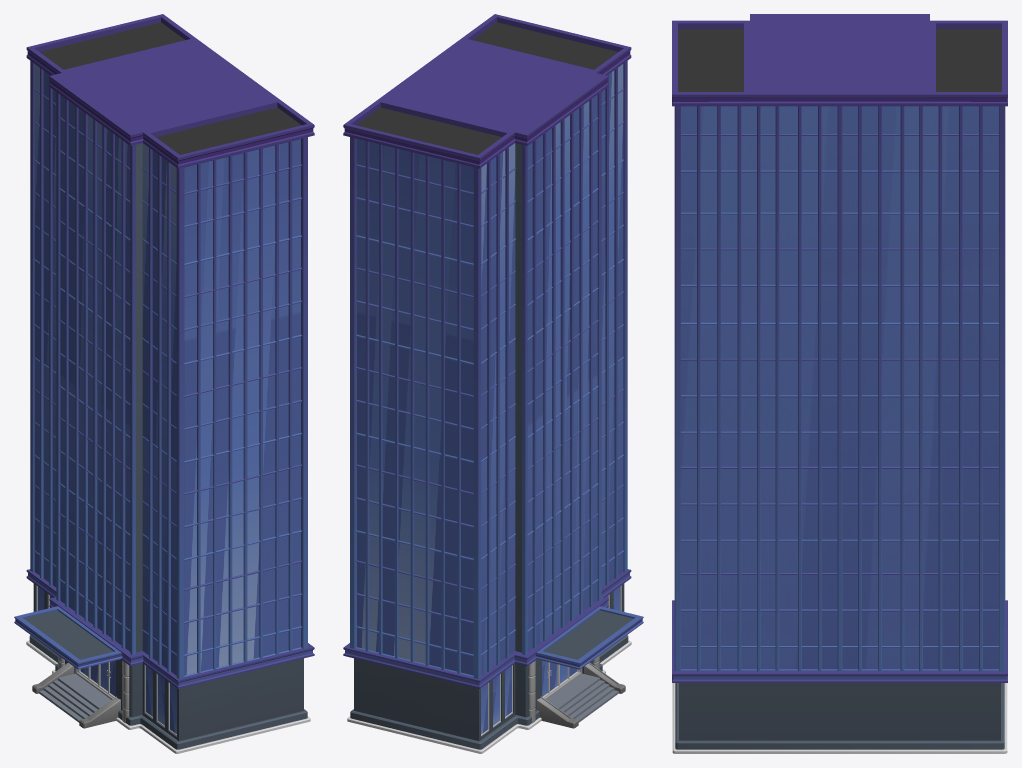
The model's file is Building_17_3_K.fbx.
The picture shows the model from 3 angles, left to right: view 1: azimuth 30°, elevation 25°; view 2: azimuth 150°, elevation 25°; view 3: azimuth 270°, elevation 25°; orthographic projection. The views are drawn at different scales.
Parts seen in each view (by area): view 1: Building_17_3_K; view 2: Building_17_3_K; view 3: Building_17_3_K.
Boxes of the visible parts, x1,y1,x2,y2 form: Building_17_3_K: (14,14,314,753); Building_17_3_K: (343,14,643,753); Building_17_3_K: (672,14,1007,753).
Size of the model in its own units: 857 by 2536 by 1168.
